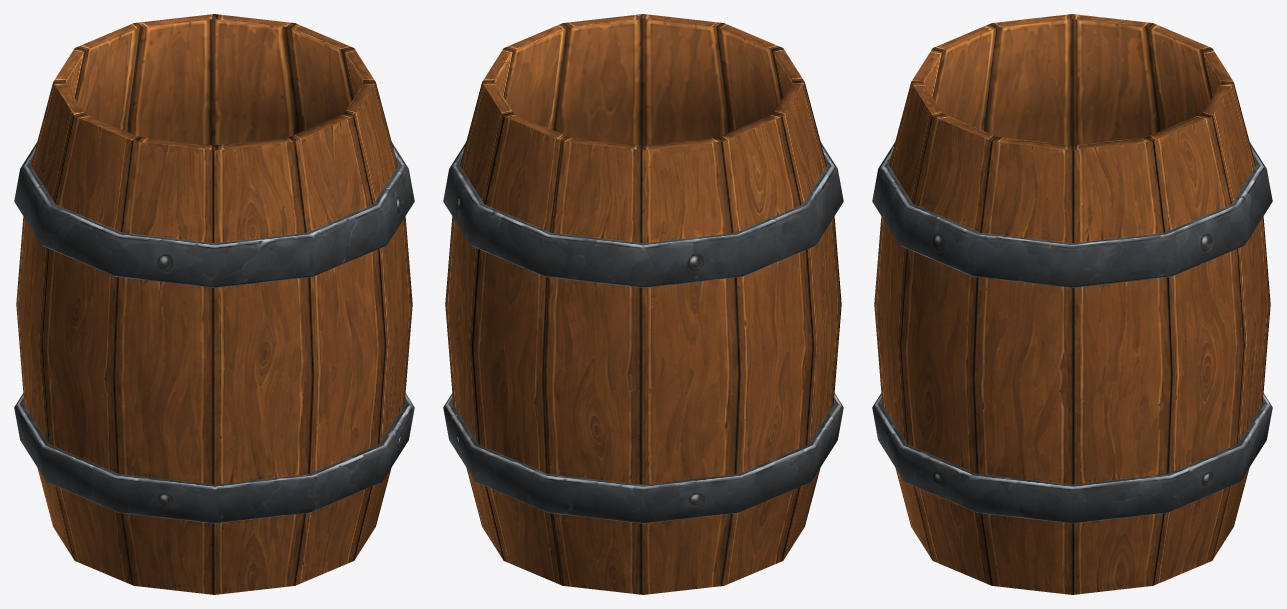
File: BarrelOpen01.fbx
3 views of the same model, side by side, from view 1: azimuth 30°, elevation 25°; view 2: azimuth 150°, elevation 25°; view 3: azimuth 270°, elevation 25° (orthographic).
Parts seen in each view (by area): view 1: BarrelOpen01_LOD0; view 2: BarrelOpen01_LOD0; view 3: BarrelOpen01_LOD0.
Boxes of the visible parts, left/top/right/bottom form: BarrelOpen01_LOD0: left=14, top=14, right=414, bottom=594; BarrelOpen01_LOD0: left=443, top=14, right=843, bottom=594; BarrelOpen01_LOD0: left=872, top=14, right=1272, bottom=594.
Size of what is drawn, in the model's own units: 0.6474 by 0.7928 by 0.6474.
